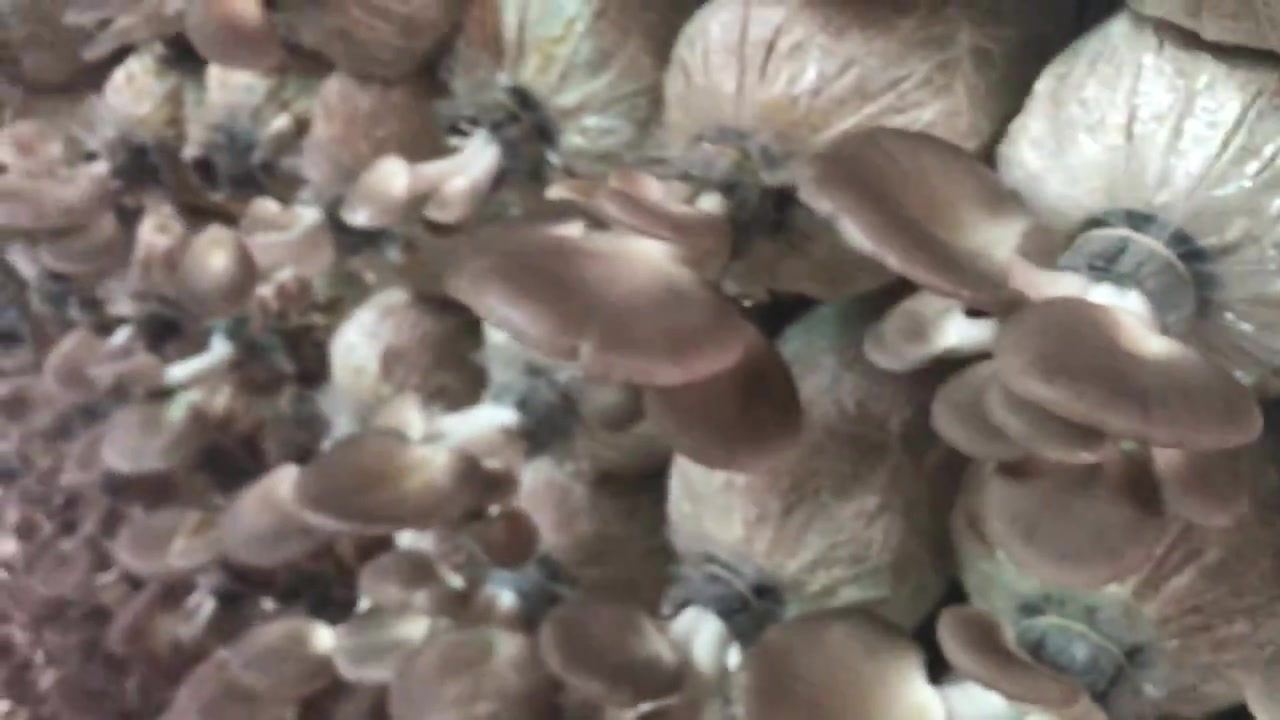nam: (810, 124, 1273, 462), (453, 137, 805, 477), (739, 587, 1167, 720), (537, 543, 798, 720), (332, 550, 571, 720), (292, 425, 482, 539)
